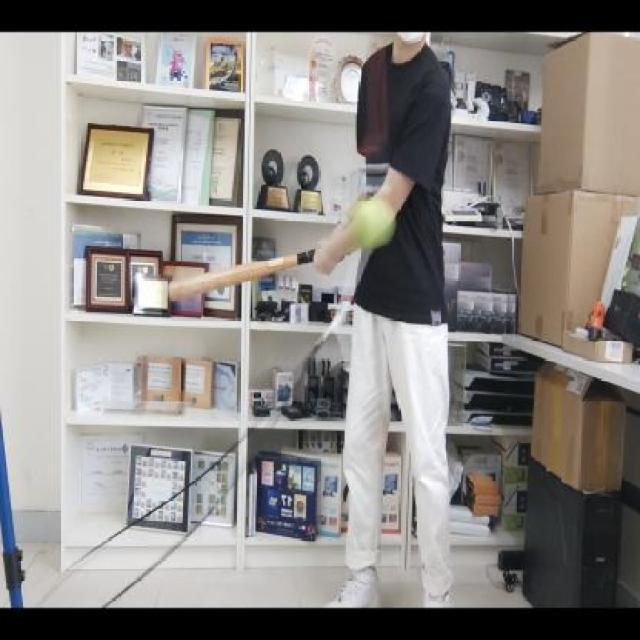baseball: (342, 198, 398, 252)
